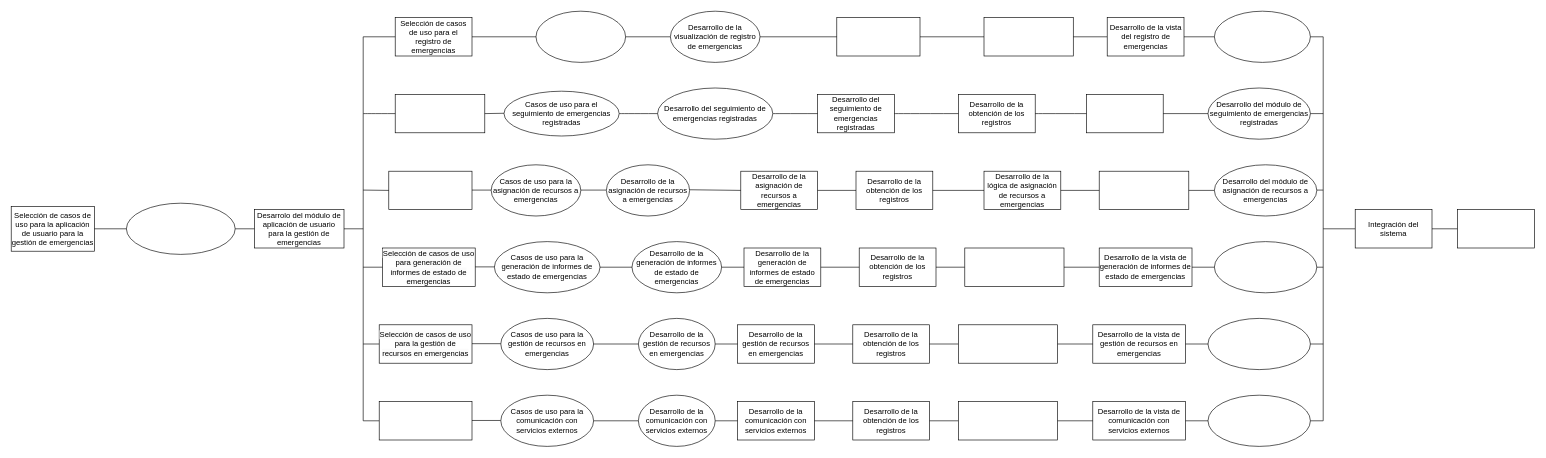
Image size: 1546x458. Some labels were removed from this diagram. Each missing label, with the centre of its shape:
"Casos de uso para el registro de emergencias" belongs at (x=580, y=36).
"Casos de uso para la aplicación de usuario para la gestión de emergencias" belongs at (x=180, y=228).
"Deployment del sistema" belongs at (x=1495, y=228).
"Desarrollo de la lógica de generación de informes de estado de emergencias" belongs at (x=1014, y=266).
"Desarrollo de la lógica de gestión de recursos en emergencias" belongs at (x=1008, y=343).
"Desarrollo de la lógica de la comunicación con servicios externos" belongs at (x=1008, y=420).
"Desarrollo de la lógica para almacenar los datos de emergencias en el sistema" belongs at (x=1028, y=36).
"Desarrollo de la vista de asignación de recursos a emergencias" belongs at (x=1144, y=190).
"Desarrollo de la vista del seguimiento de emergencias registradas" belongs at (x=1124, y=113).
"Desarrollo de la visualización del registro de emergencias" belongs at (x=878, y=36).
"Desarrollo del módulo de comunicación con servicios externos" belongs at (x=1258, y=420).
"Desarrollo del módulo de generación de informes de estado de emergencias" belongs at (x=1265, y=267).
"Desarrollo del módulo de gestión de recursos en emergencias" belongs at (x=1258, y=344).
"Desarrollo del módulo de registro de emergencias" belongs at (x=1262, y=36).
"Selección de casos de uso para el seguimiento de emergencias registradas" belongs at (x=440, y=113).
"Selección de casos de uso para la asignación de recursos a emergencias" belongs at (x=430, y=190).
"Selección de casos de uso para la comunicación con servicios externos" belongs at (x=425, y=420).
